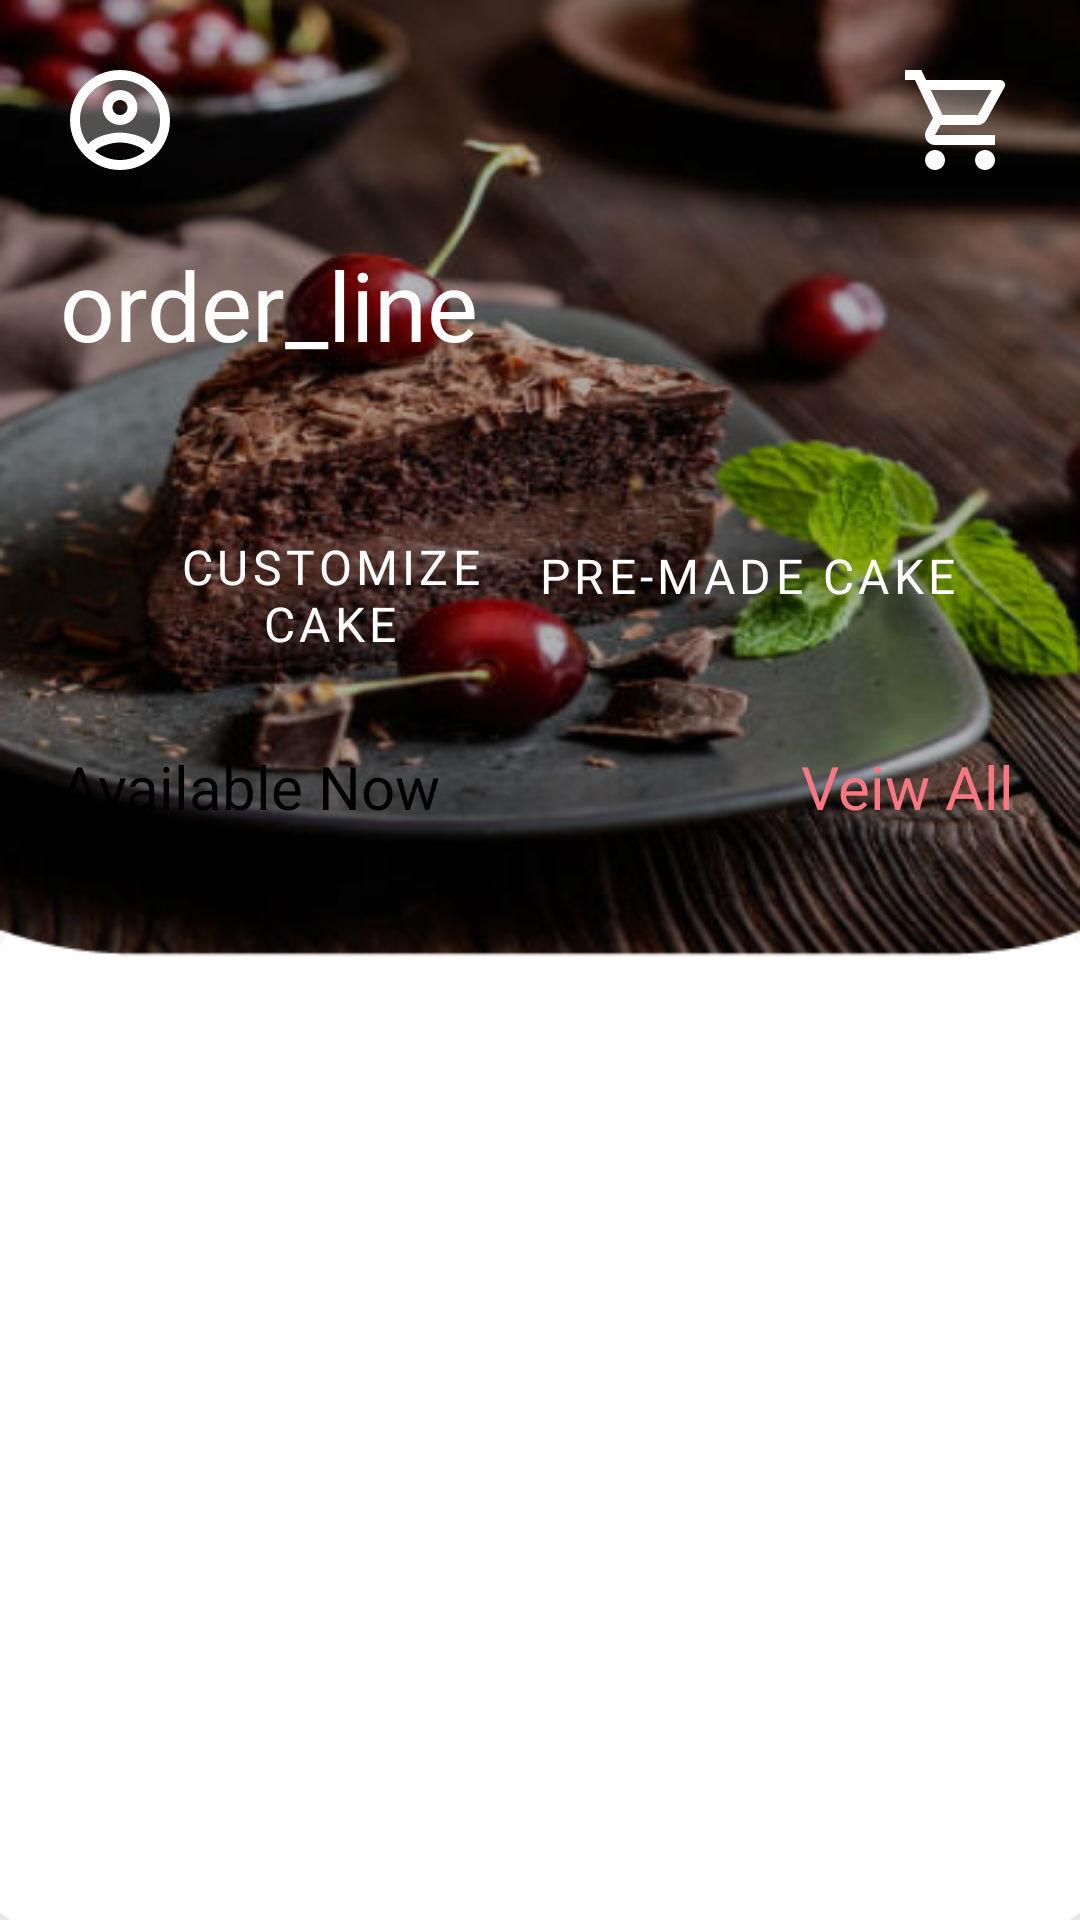

Point at icon controls on the screen. Image size 1080 × 1920, points as point (x, y).
account: point (120, 120)
cart: point (960, 115)
